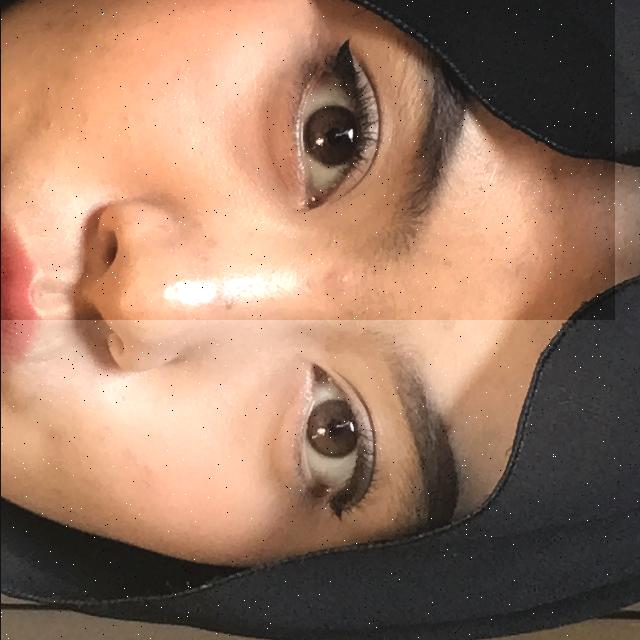sedih: (0, 0, 614, 320)
